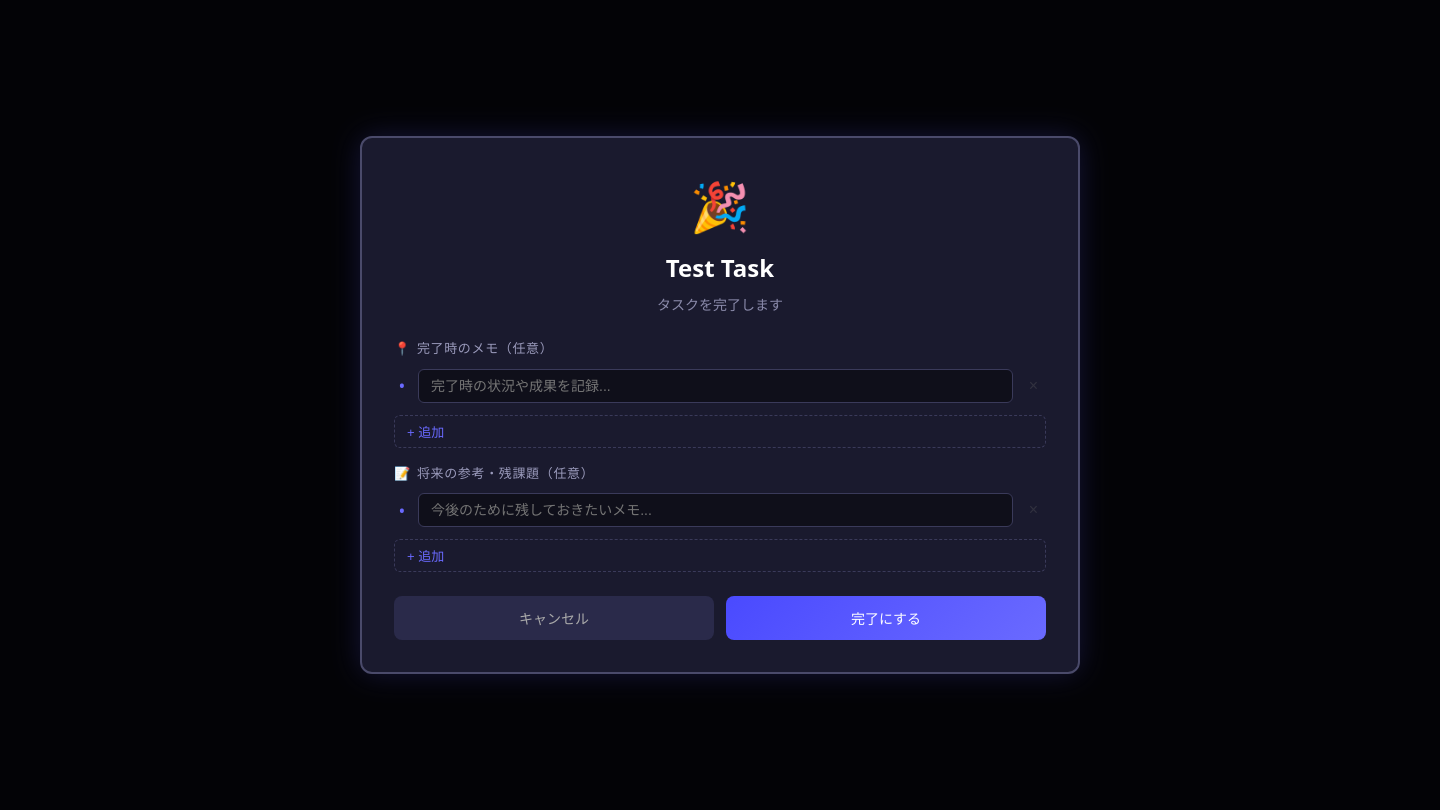
Test: CompleteModal › adds a new list item when + 追加 button is clicked
The width and height of the screenshot is (1440, 810).
Expected: the number of fields with placeholder "完了時の状況や成果を記録..." is 1, top-left (418, 368), bottom-right (1013, 402)
Click the button "+ 追加" below "完了時のメモ（任意）".
click(426, 432)  # box top-left (394, 414), bottom-right (1046, 448)
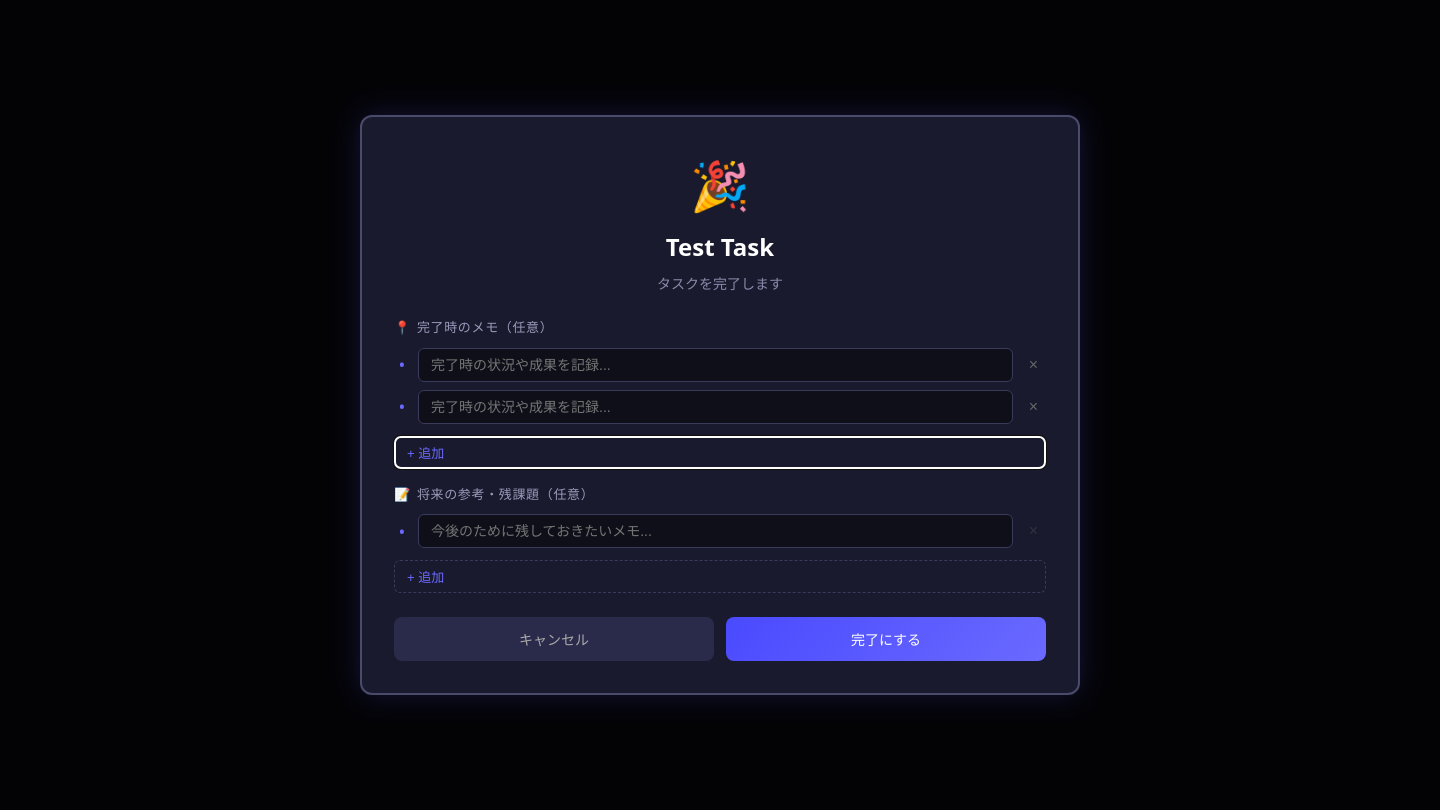
Now the number of fields with placeholder "完了時の状況や成果を記録..." is 2, box top-left (418, 348), bottom-right (1013, 382); top-left (418, 390), bottom-right (1013, 424)
